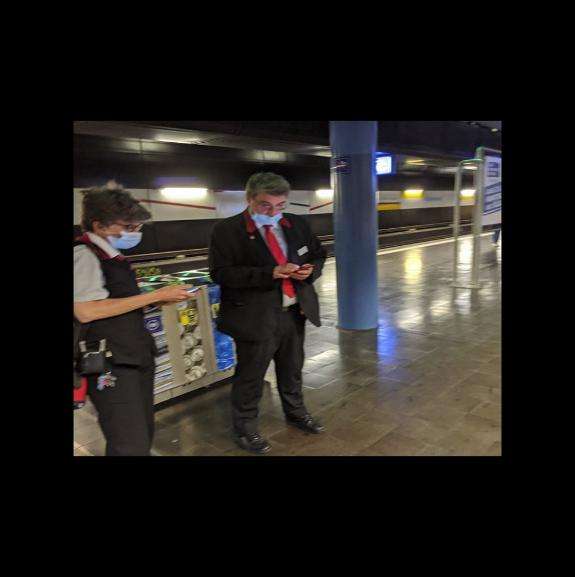mask_weared_incorrect: (252, 193, 289, 227)
with_mask: (108, 220, 143, 252)
